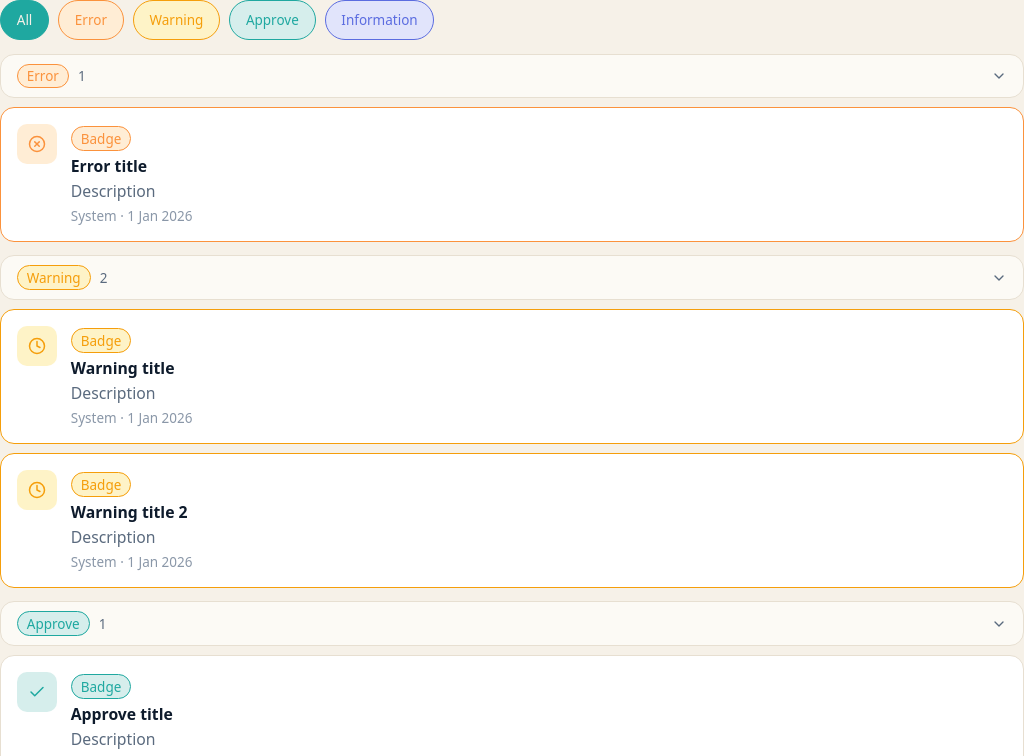
MessagesTab — grouping, filter, collapse (STA-253) › shows the filtered empty-state copy when every type is deselected
Click the button "Error": [91, 20] box [58,0,124,40]
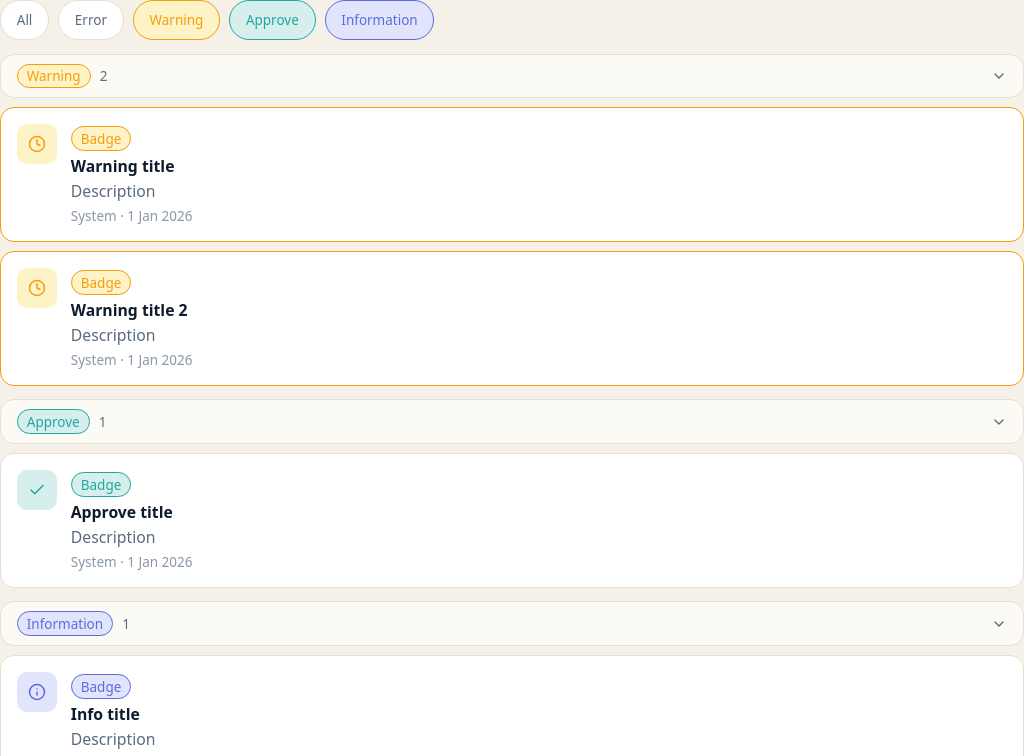
Click the button "Warning": [176, 20] box [133,0,220,40]
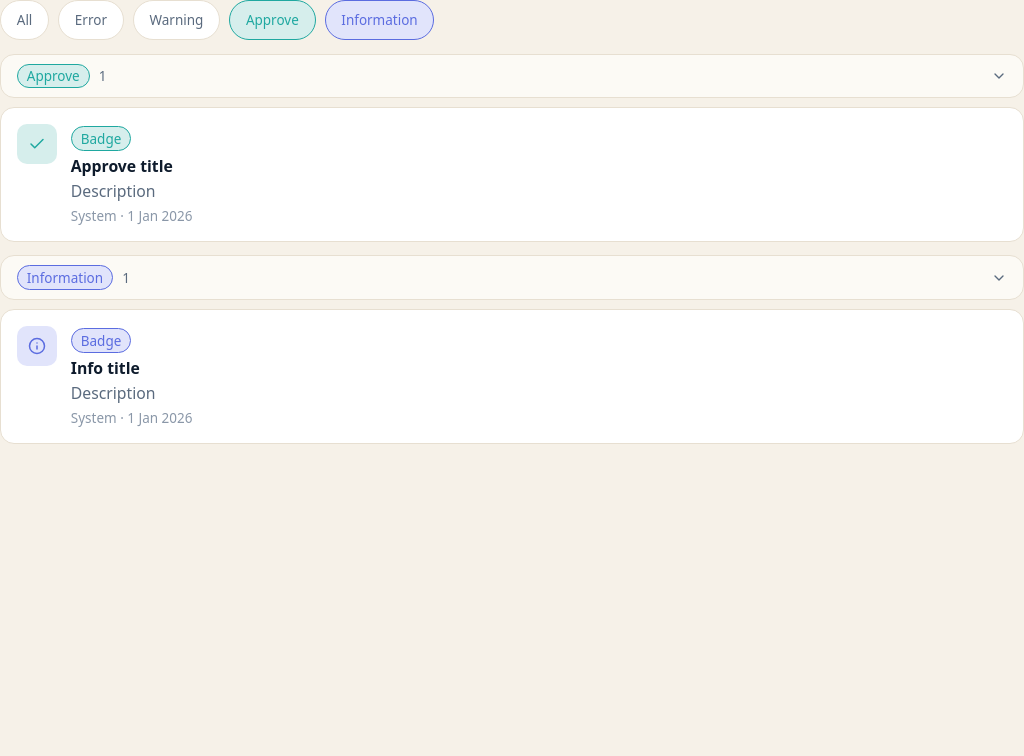
Click the button "Approve": [272, 20] box [229,0,316,40]
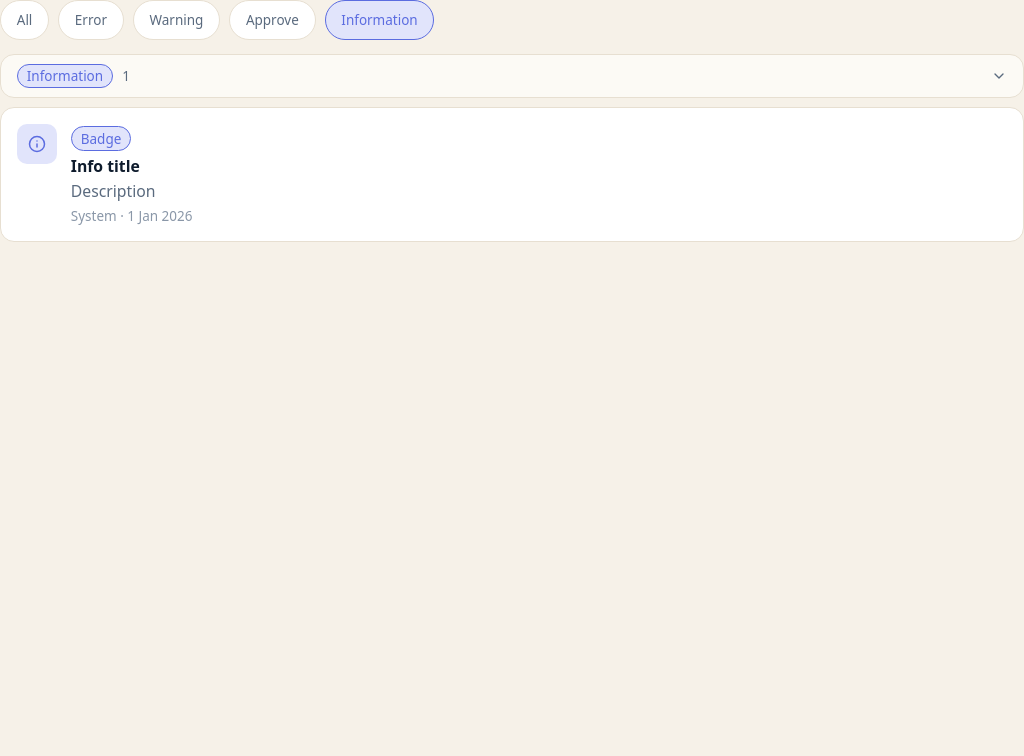
Click the button "Information": [380, 20] box [325,0,434,40]
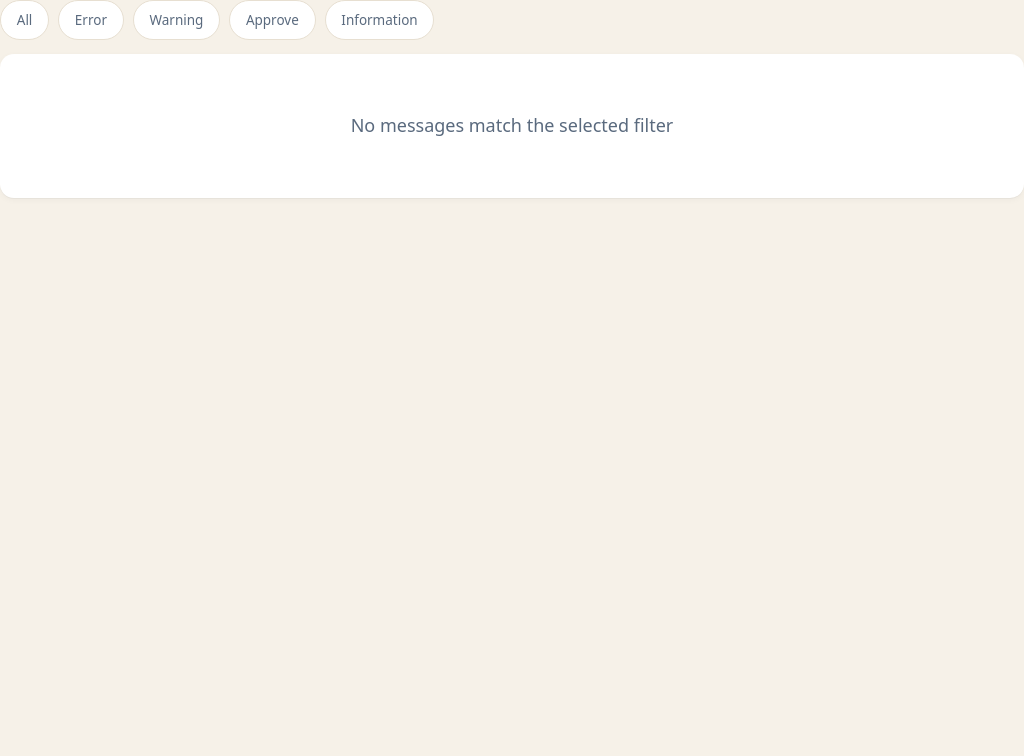
Check: the text "No messages match the selected filter" is shown, box [351,113,673,137]
